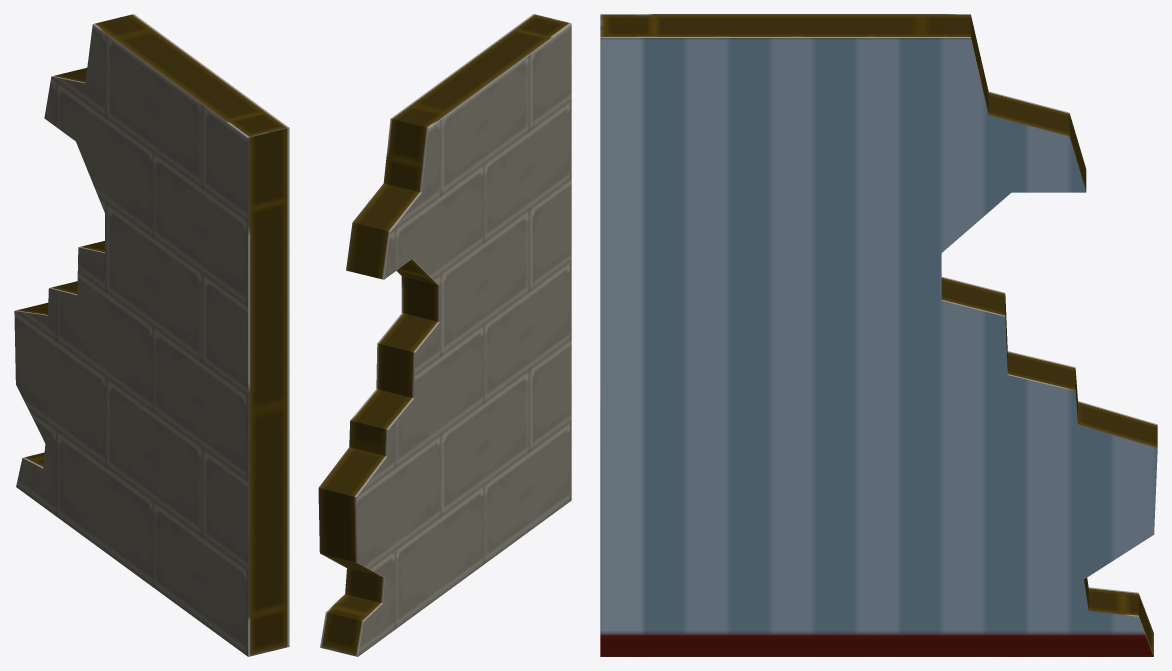
Rendered from Wall_Broken_R_11.fbx.
3 renders of one model, left to right at view 1: azimuth 30°, elevation 25°; view 2: azimuth 150°, elevation 25°; view 3: azimuth 270°, elevation 25°, orthographic. The views are drawn at different scales.
Visible parts, largest first — view 1: Wall_Broken_R_11; view 2: Wall_Broken_R_11; view 3: Wall_Broken_R_11.
Part boxes in pixels (x1,y1,x2,y2): Wall_Broken_R_11: (14, 14, 289, 656); Wall_Broken_R_11: (318, 14, 571, 656); Wall_Broken_R_11: (600, 14, 1157, 656).
Bounding box in the file's own units: 50 × 600 × 490.
